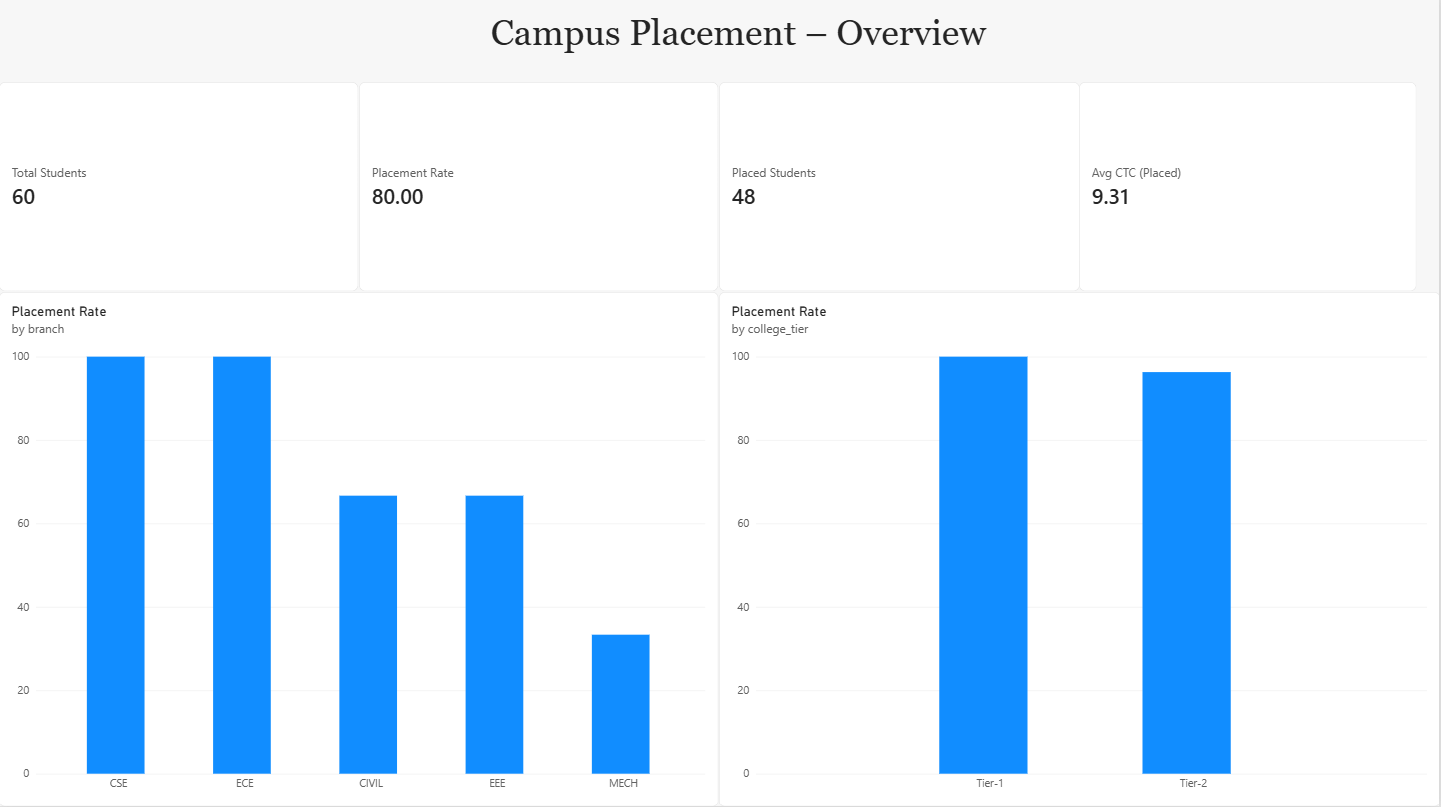

Layout of this report page (visuals, bound fields, positions):
{"tool":"powerbi","page":{"name":"Overview","canvas":[1920,1080],"ordinal":0},"visuals":[{"type":"cardVisual","fields":{"Data":["placements_data.Total Students"]},"box":[0,113.2,479.6,279.9],"z":0},{"type":"cardVisual","fields":{"Data":["placements_data.Placement Rate"]},"box":[479.6,113.2,479.6,279.9],"z":1000},{"type":"cardVisual","fields":{"Data":["placements_data.Placed Students"]},"box":[959.2,113.2,481.6,279.9],"z":2000},{"type":"cardVisual","fields":{"Data":["placements_data.Avg CTC (Placed)"]},"box":[1440.8,113.2,450.8,279.9],"z":3000},{"type":"clusteredColumnChart","fields":{"Category":["placements_data.branch"],"Y":["placements_data.Placement Rate"]},"box":[0,393.1,959.2,687.5],"z":4000},{"type":"clusteredColumnChart","fields":{"Category":["placements_data.college_tier"],"Y":["placements_data.Placement Rate"]},"box":[959.2,393.1,961.2,687.5],"z":5000},{"type":"textbox","box":[644.3,20.6,681.3,74.1],"z":6000}]}

Visuals, with their boxes in screenshot pixels (x1, y1, x2, y2), scaled from the page's 1920x1080 canvas onto the 1441x807 screenshot:
cardVisual - placements_data.Total Students: 0:85:360:294
cardVisual - placements_data.Placement Rate: 360:85:720:294
cardVisual - placements_data.Placed Students: 720:85:1081:294
cardVisual - placements_data.Avg CTC (Placed): 1081:85:1420:294
clusteredColumnChart - placements_data.branch x placements_data.Placement Rate: 0:294:720:806
clusteredColumnChart - placements_data.college_tier x placements_data.Placement Rate: 720:294:1440:806
textbox: 484:15:995:71
